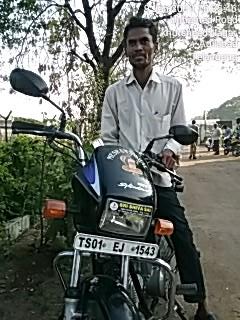plate: (72, 231, 161, 265)
